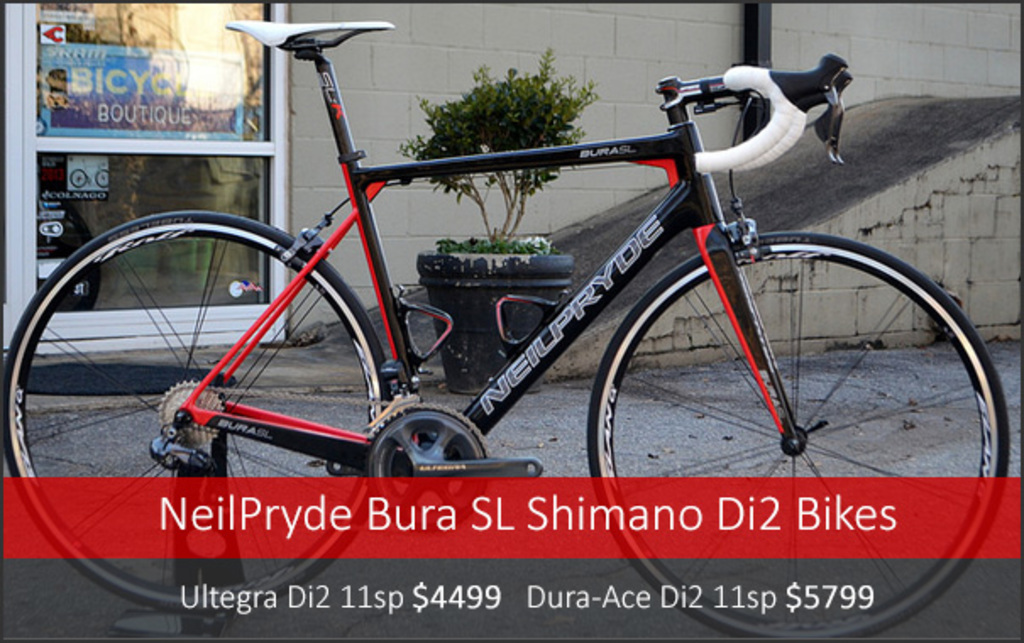Bike: (88, 37, 991, 564)
